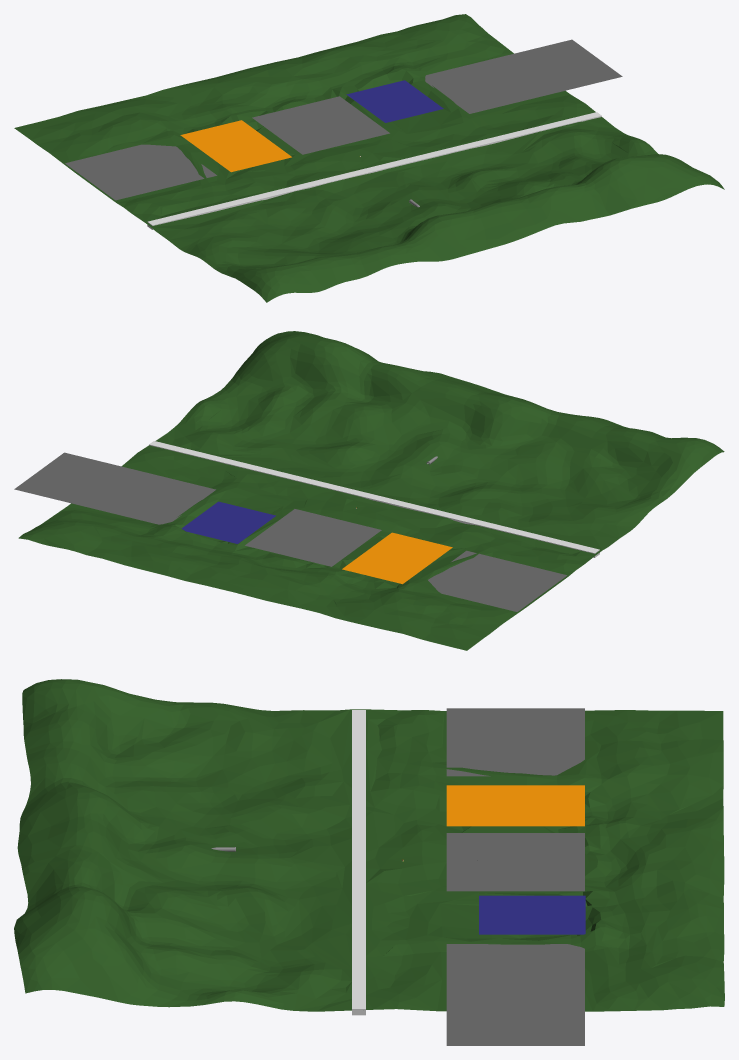
File: Level layout.fbx
3 renders of one model, top to bottom at view 1: azimuth 30°, elevation 25°; view 2: azimuth 150°, elevation 25°; view 3: azimuth 270°, elevation 25°, orthographic. The views are drawn at different scales.
Parts seen in each view (by area): view 1: Environment, Zone Office.002, Zone Office.001, Zone Office, Zone Construction, Sidewalk, Zone Star Widget; view 2: Environment, Zone Office.002, Zone Office.001, Zone Office, Zone Construction, Sidewalk, Zone Star Widget; view 3: Environment, Zone Office.002, Zone Office.001, Zone Office, Zone Construction, Sidewalk, Zone Star Widget.
Boxes of the visible parts, box(x1,y1,x2,y2) form: Environment: box(14, 14, 724, 302); Zone Office.002: box(425, 39, 622, 113); Zone Office.001: box(65, 144, 216, 200); Zone Office: box(252, 96, 389, 154); Zone Construction: box(180, 120, 291, 172); Sidewalk: box(147, 112, 601, 229); Zone Star Widget: box(346, 80, 443, 122); Environment: box(18, 331, 724, 650); Zone Office.002: box(14, 452, 215, 524); Zone Office.001: box(428, 550, 566, 611); Zone Office: box(245, 509, 381, 566); Zone Construction: box(342, 532, 452, 584); Sidewalk: box(149, 441, 599, 557); Zone Star Widget: box(181, 501, 275, 543); Environment: box(14, 679, 724, 1011); Zone Office.002: box(446, 944, 584, 1045); Zone Office.001: box(446, 708, 584, 776); Zone Office: box(446, 833, 584, 891); Zone Construction: box(446, 785, 584, 826); Sidewalk: box(352, 710, 365, 1015); Zone Star Widget: box(479, 895, 585, 934).
Bounding box in the file's own units: 34949 × 3575 × 30841.
